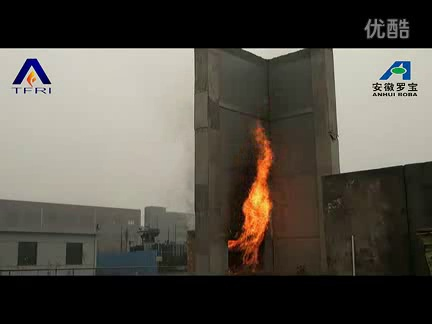fire: (223, 122, 278, 266)
